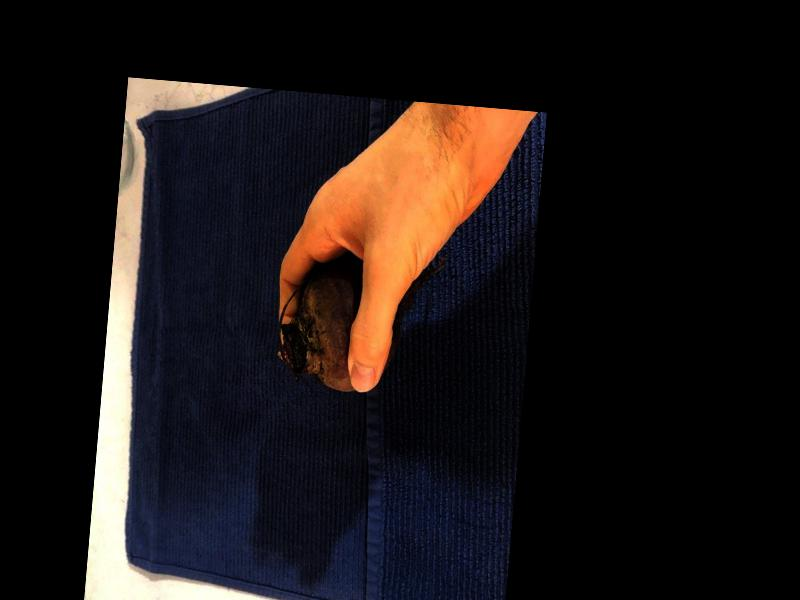Beet: (275, 250, 448, 400)
